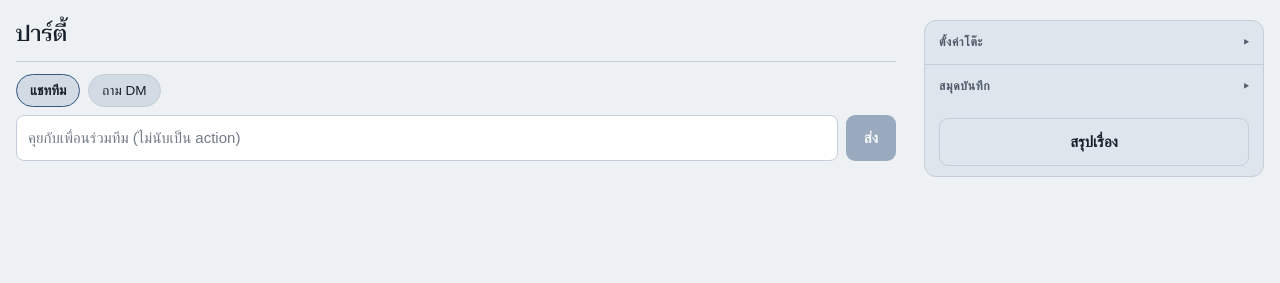
Scenario: CampaignPage — quest log › loads facts, subscribes, and shows them in the notebook
Click the button "สมุดบันทึก ▸". click: (965, 86)
box: [925,65,1263,108]
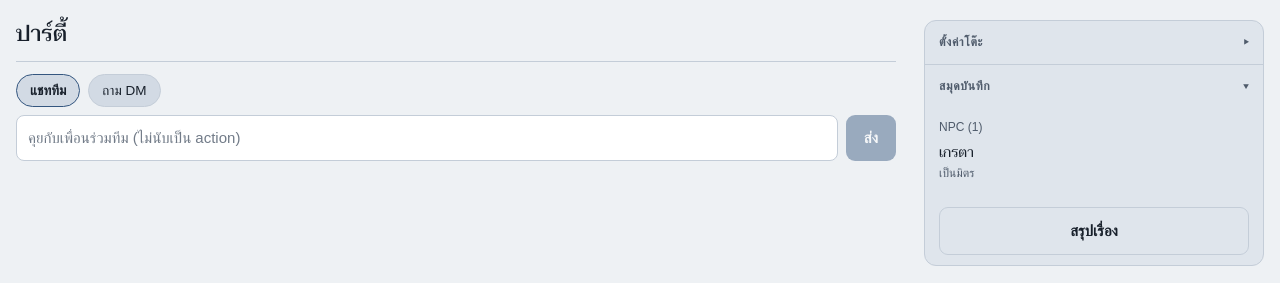
Now the element named "NPC ที่พบ" shows "เกรตา", box [939,140,974,164]
